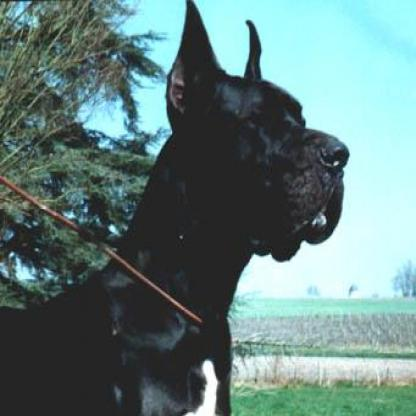Great_Dane: (0, 1, 349, 414)
